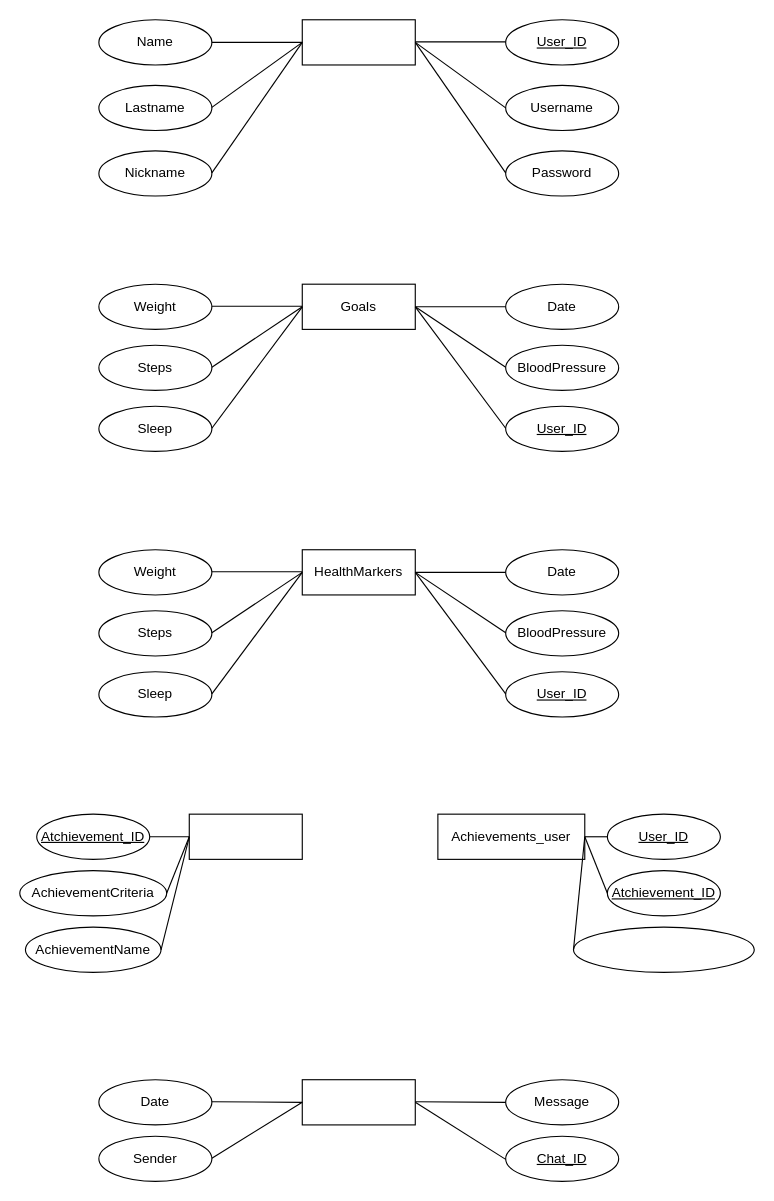
This 774x1201 diagram has some shape labels left out. The shapes that lost their labels are listed below. From the top down, each one's box as (x1, y1, x2, y2) in pixels, then its label:
(301, 19, 415, 65): User
(188, 813, 302, 859): Achievements
(572, 926, 754, 972): AchievementCompleted
(301, 1079, 415, 1125): AI-messages
